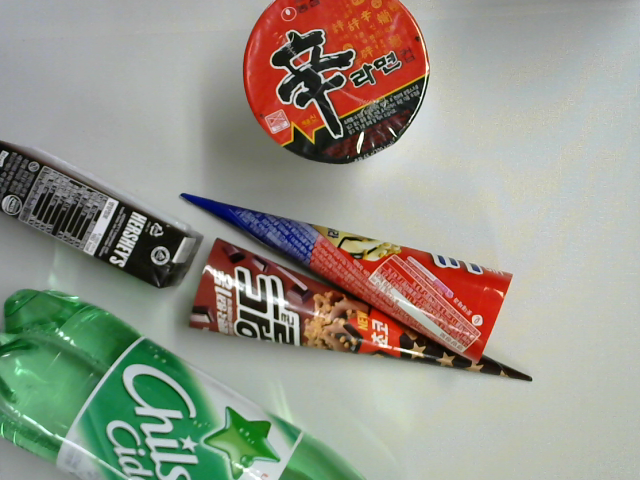Chilseong_Cider_1.5L: (1, 287, 374, 480)
Choco_E_Mong: (1, 136, 204, 298)
Sinramen_small: (239, 1, 429, 167)
World_Cone_Banila: (180, 193, 514, 363)
World_Cone_Choco: (187, 237, 536, 381)
